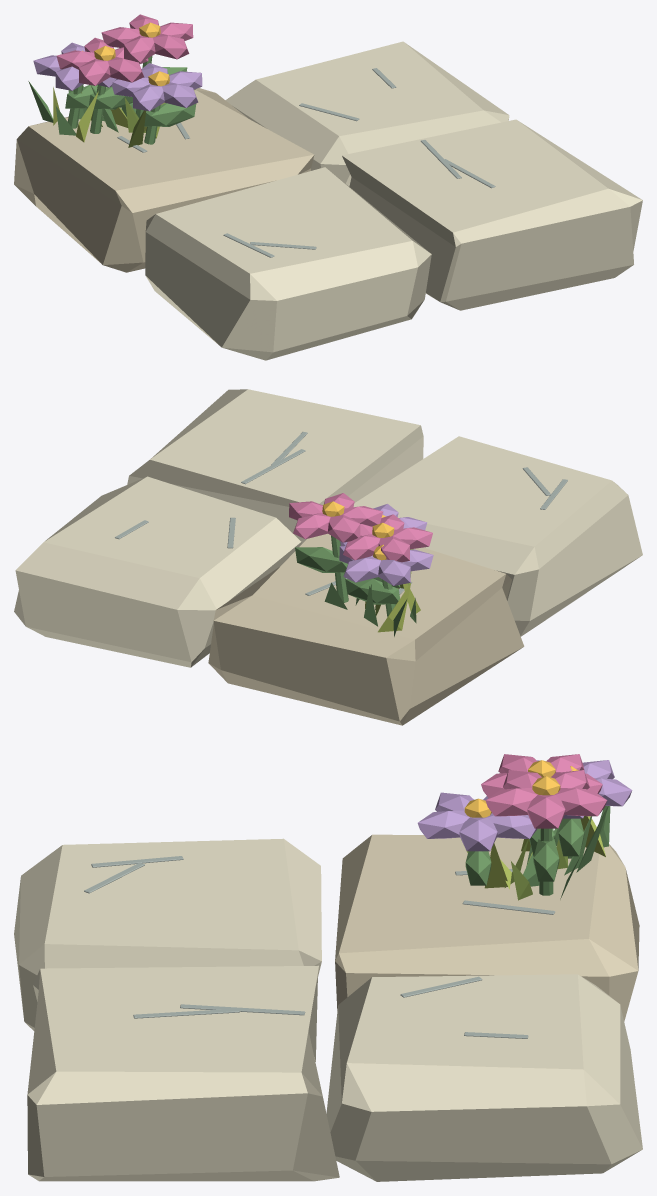
File: slab_flowers_light.glb
3 views of the same model, one above another, from view 1: azimuth 30°, elevation 25°; view 2: azimuth 150°, elevation 25°; view 3: azimuth 270°, elevation 25° (orthographic). The views are drawn at different scales.
Visible parts, largest first — view 1: slab_flowers_light; view 2: slab_flowers_light; view 3: slab_flowers_light.
Boxes of the visible parts, box(x1,y1,x2,y2) form: slab_flowers_light: box(14, 14, 642, 360); slab_flowers_light: box(14, 389, 642, 725); slab_flowers_light: box(14, 754, 642, 1181).
Bounding box in the file's own units: 1.03 × 0.4245 × 1.04.
